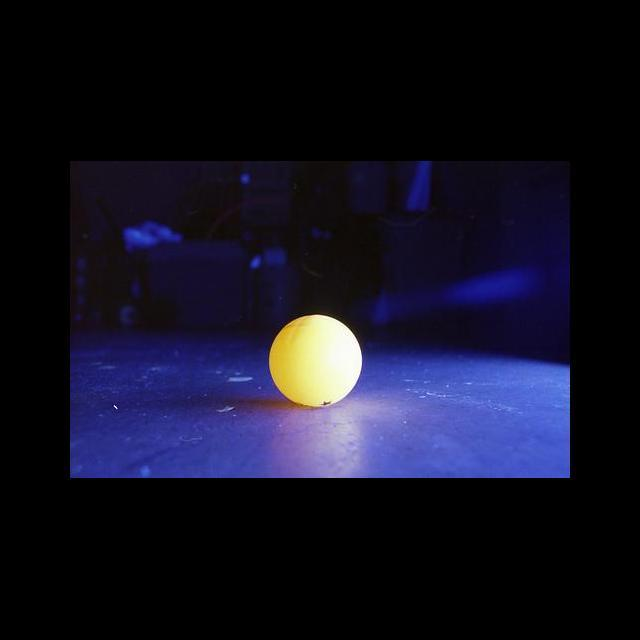ping-pong-ball: (268, 314, 365, 411)
